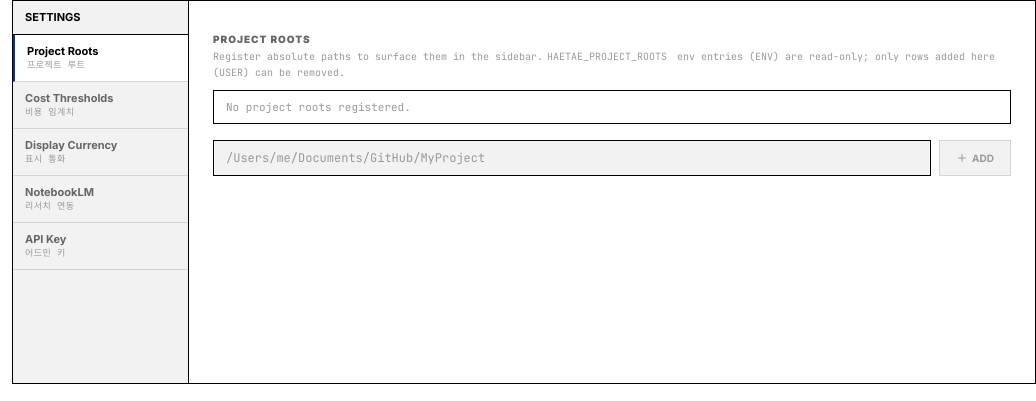
Test case: SettingsView — master/detail nav › 비용 임계치 클릭 시 임계치 패널로 전환
The width and height of the screenshot is (1036, 401).
Click the button "Cost Thresholds 비용 임계치" at (100,105), box [13,82,188,128]
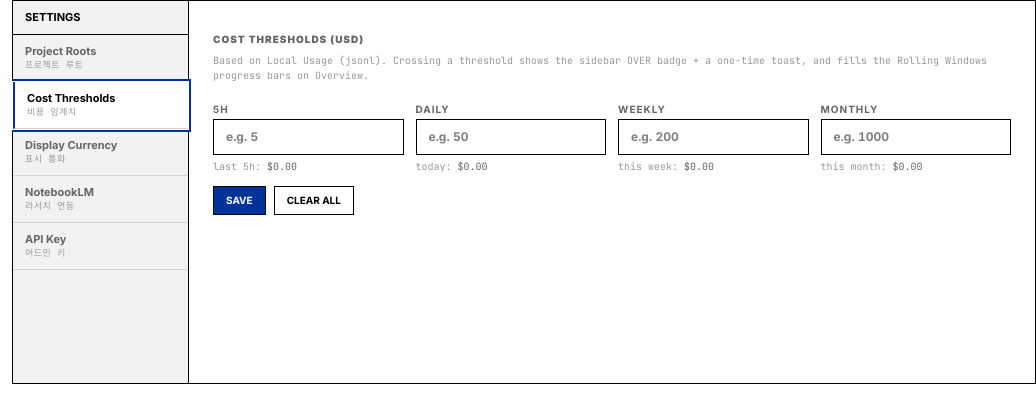
Now the text "Cost Thresholds (USD)" is shown, box [213,33,364,45]
